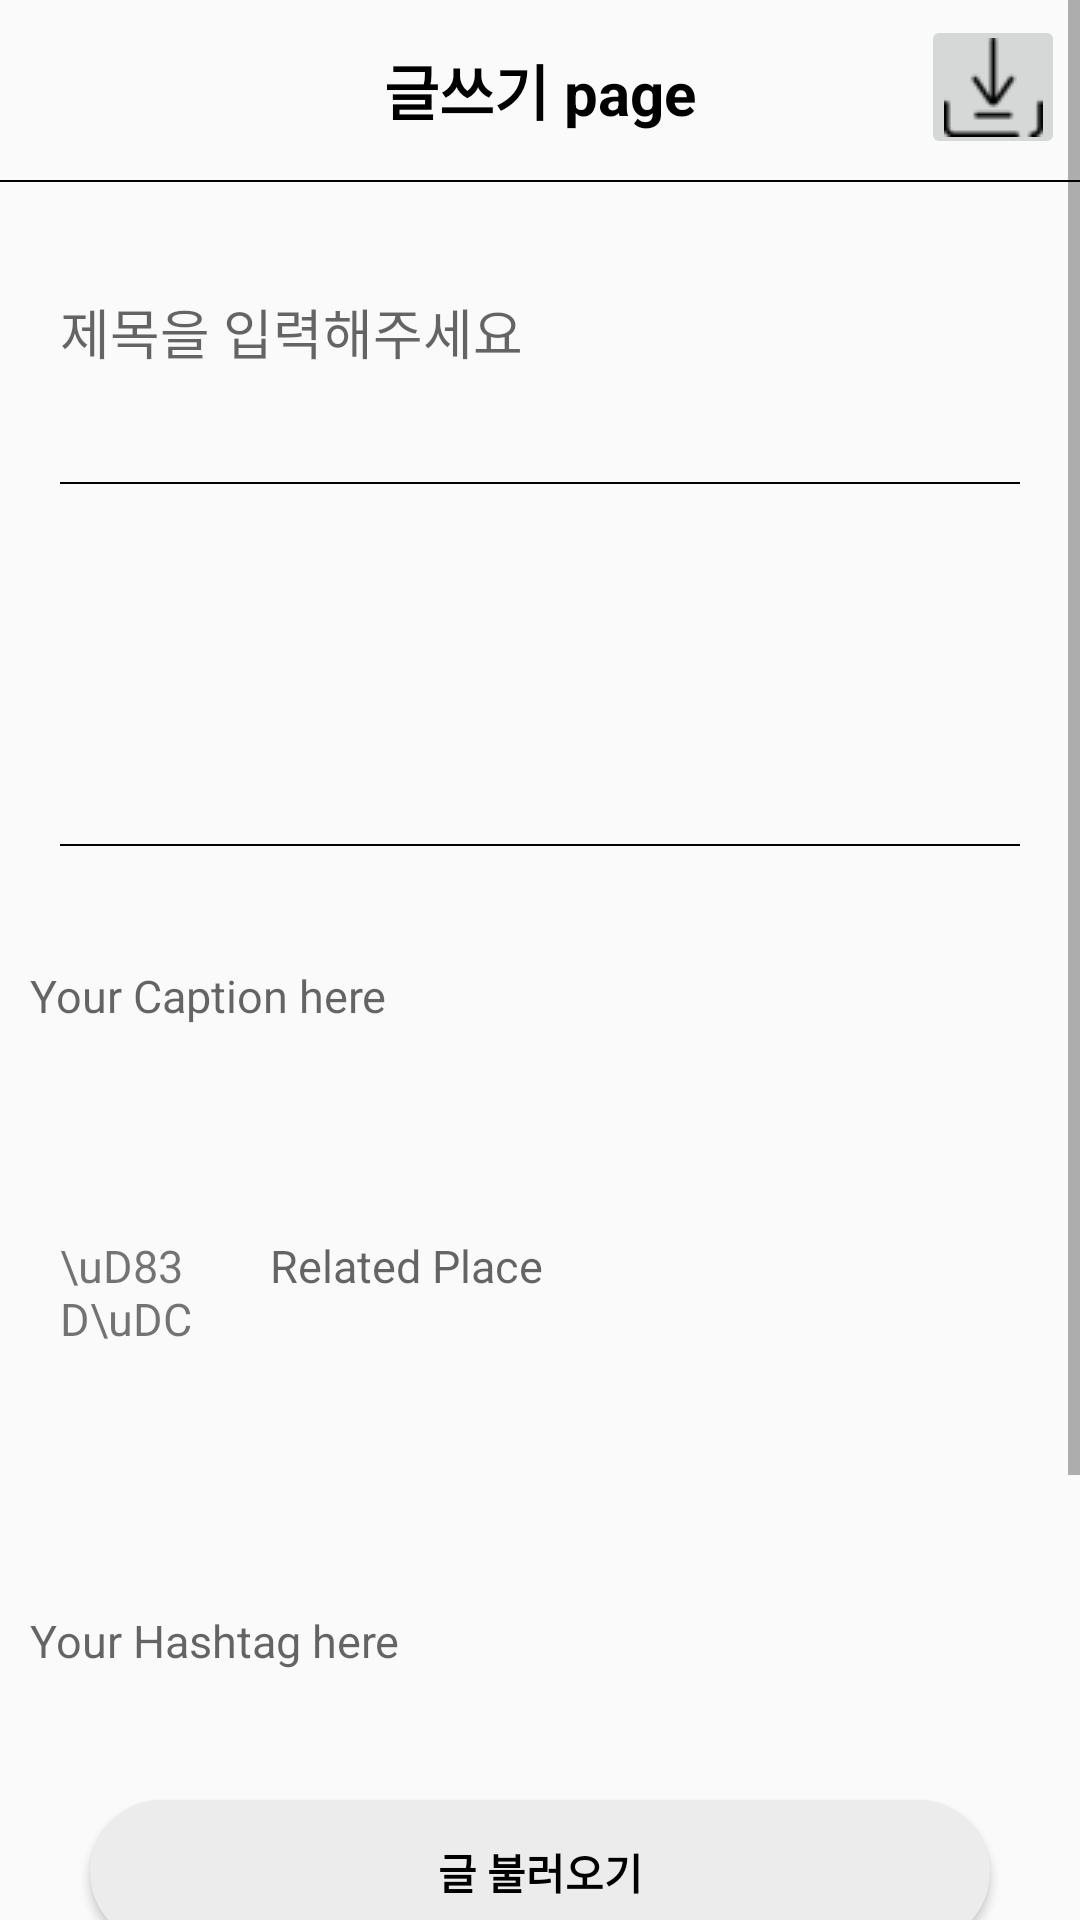

Where icons sit on this 1080x1920 app screen, as (x1, y1, x2, y2):
save: (933, 33, 1053, 141)
